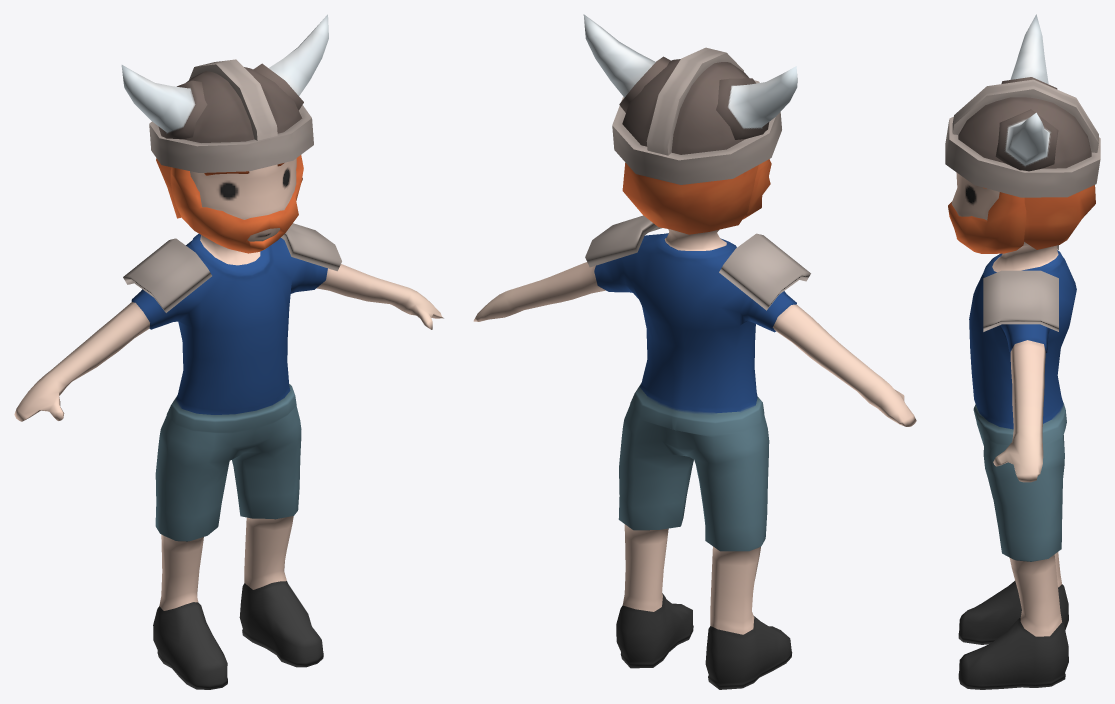
The model's file is Simon.fbx.
3 views of the same model, side by side, from view 1: azimuth 30°, elevation 25°; view 2: azimuth 150°, elevation 25°; view 3: azimuth 270°, elevation 25° (orthographic). The views are drawn at different scales.
Visible parts, largest first — view 1: polySurface130; view 2: polySurface130; view 3: polySurface130.
Boxes of the visible parts, x1,y1,x2,y2 form: polySurface130: (14,14,443,689); polySurface130: (473,14,916,689); polySurface130: (945,14,1100,689).
Size of the model in its own units: 108 by 148 by 35.03.
